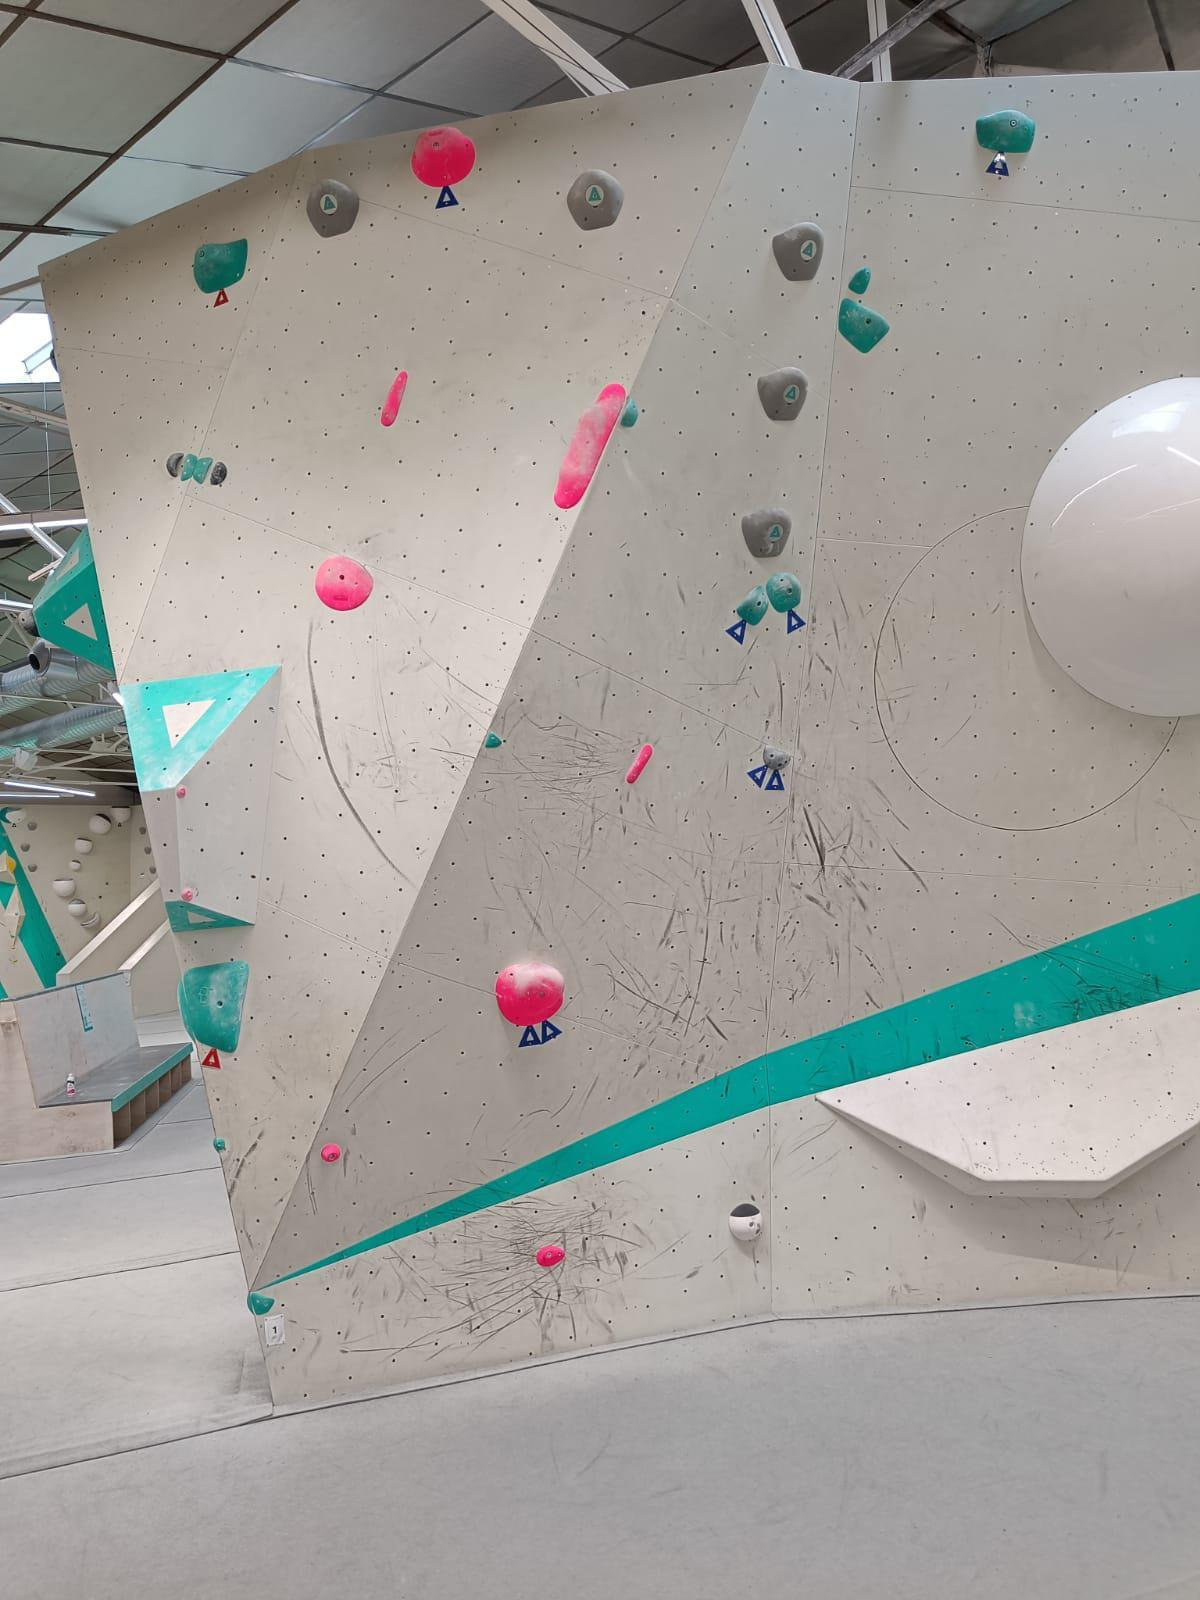hold: (1020, 377, 1200, 717), (553, 383, 625, 509), (183, 960, 248, 1053), (494, 961, 565, 1026), (411, 127, 475, 186), (567, 169, 624, 231), (315, 556, 373, 611), (771, 222, 824, 281), (306, 178, 359, 237), (193, 238, 248, 294), (838, 297, 890, 353), (756, 367, 808, 421), (976, 108, 1036, 154), (741, 508, 792, 557), (381, 369, 408, 427), (765, 572, 802, 614), (736, 583, 770, 626), (729, 1203, 763, 1241), (178, 975, 195, 1042), (625, 743, 654, 784), (763, 746, 792, 770), (536, 1245, 566, 1267), (848, 266, 871, 295), (18, 609, 40, 637), (251, 1293, 275, 1315), (193, 457, 213, 484), (620, 399, 639, 427), (180, 454, 198, 481), (166, 452, 184, 477), (320, 1144, 342, 1163), (209, 462, 227, 485), (484, 731, 503, 748), (213, 1136, 226, 1150), (182, 887, 194, 901), (247, 1293, 255, 1314), (175, 785, 187, 799)
volume: (814, 989, 1200, 1198), (118, 664, 282, 932), (33, 525, 116, 675)
